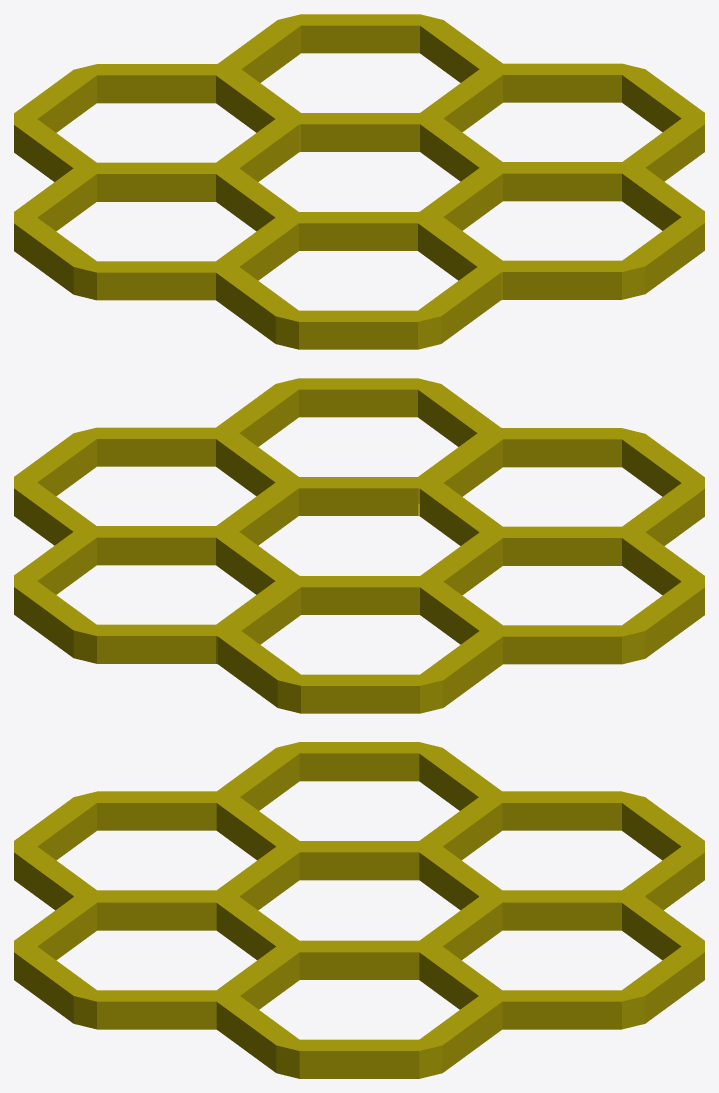
File: HneyComb.fbx
3 renders of one model, top to bottom at view 1: azimuth 30°, elevation 25°; view 2: azimuth 150°, elevation 25°; view 3: azimuth 270°, elevation 25°, orthographic.
Visible parts, largest first — view 1: HoneyComb; view 2: HoneyComb; view 3: HoneyComb.
Boxes of the visible parts, x1,y1,x2,y2 form: HoneyComb: (14,14,704,349); HoneyComb: (14,378,704,713); HoneyComb: (14,742,704,1078).
Bounding box in the file's own units: 271 × 11.39 × 256.
